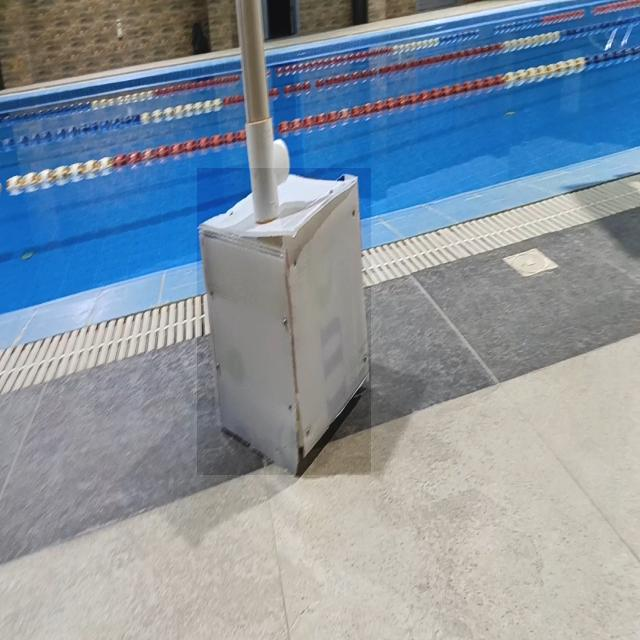Cube: (197, 168, 371, 475)
